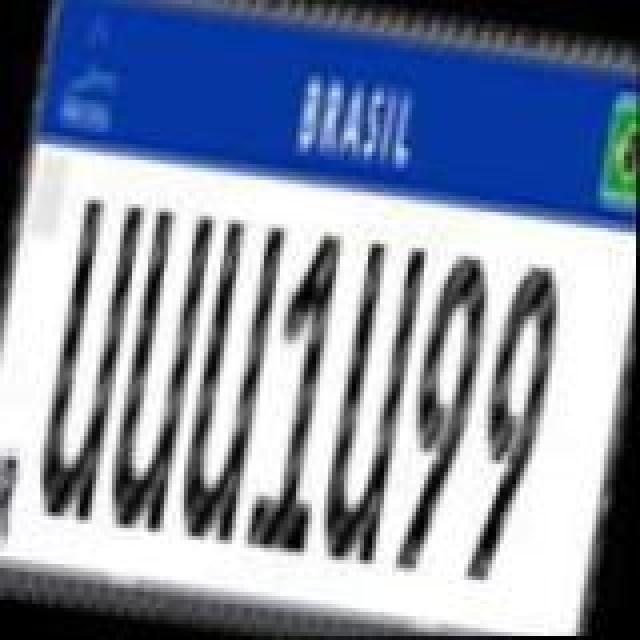1: (242, 220, 362, 560)
9: (452, 248, 572, 588), (382, 236, 498, 576)
U: (310, 228, 430, 572), (26, 190, 146, 530), (170, 210, 290, 550), (98, 202, 218, 538)
